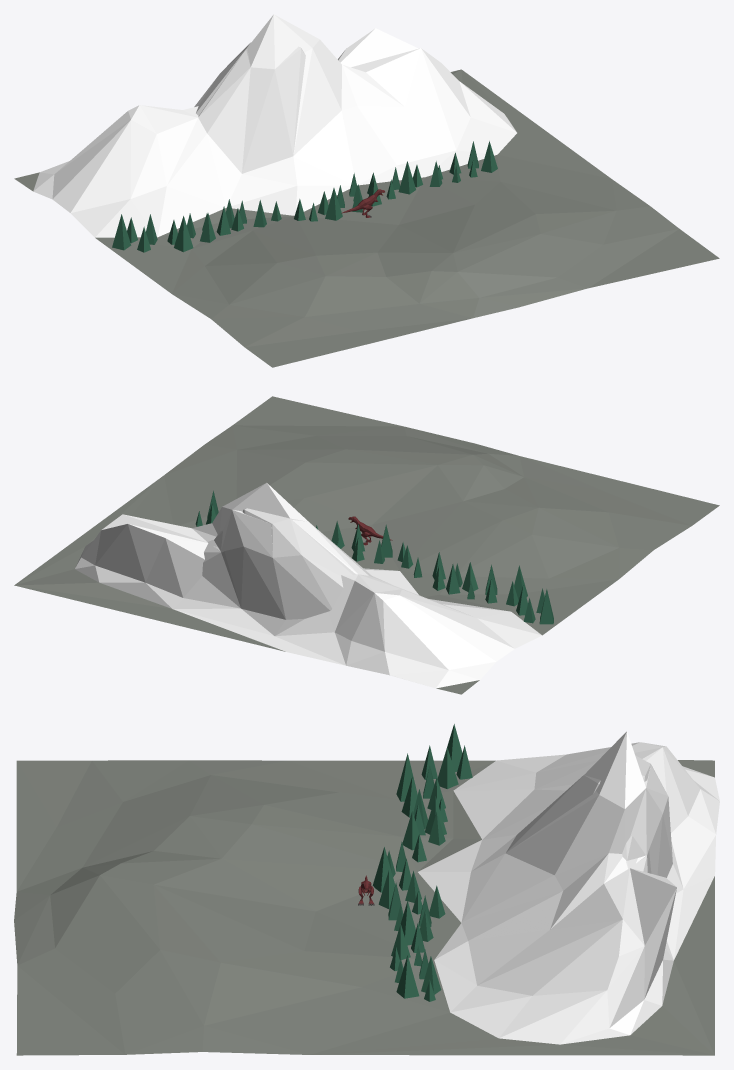
Rendered from dino-09.glb.
The picture shows the model from 3 angles, top to bottom: view 1: azimuth 30°, elevation 25°; view 2: azimuth 150°, elevation 25°; view 3: azimuth 270°, elevation 25°; orthographic projection. The views are drawn at different scales.
Parts seen in each view (by area): view 1: landscape, mountains, landscape.001; view 2: landscape, mountains, landscape.001; view 3: landscape, mountains, landscape.001, Cone.021.
Part boxes in pixels (left/top/right/bottom): landscape: left=14, top=69, right=719, bottom=367; mountains: left=33, top=14, right=516, bottom=237; landscape.001: left=194, top=42, right=305, bottom=173; landscape: left=14, top=396, right=719, bottom=694; mountains: left=75, top=482, right=541, bottom=688; landscape.001: left=178, top=508, right=404, bottom=679; landscape: left=14, top=760, right=714, bottom=1055; mountains: left=418, top=731, right=719, bottom=1044; landscape.001: left=506, top=755, right=663, bottom=873; Cone.021: left=396, top=955, right=419, bottom=998.
Size of the model in its own units: 60 by 17.01 by 60.69.
